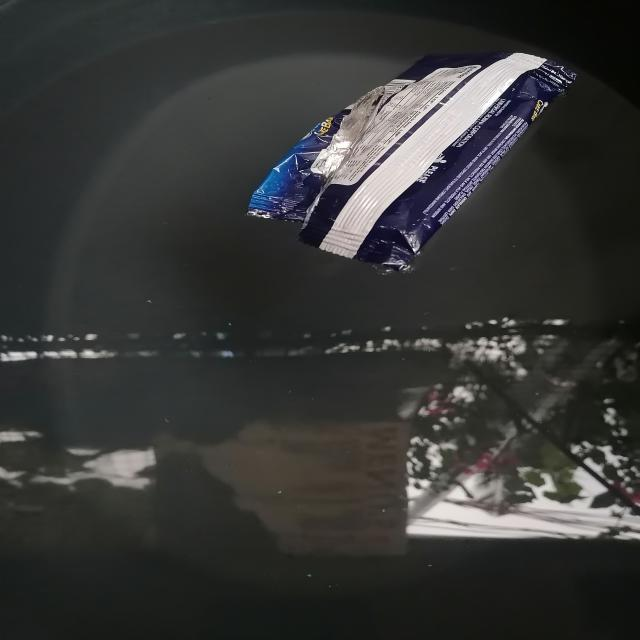Plastic Wrapper: (247, 53, 576, 270)
